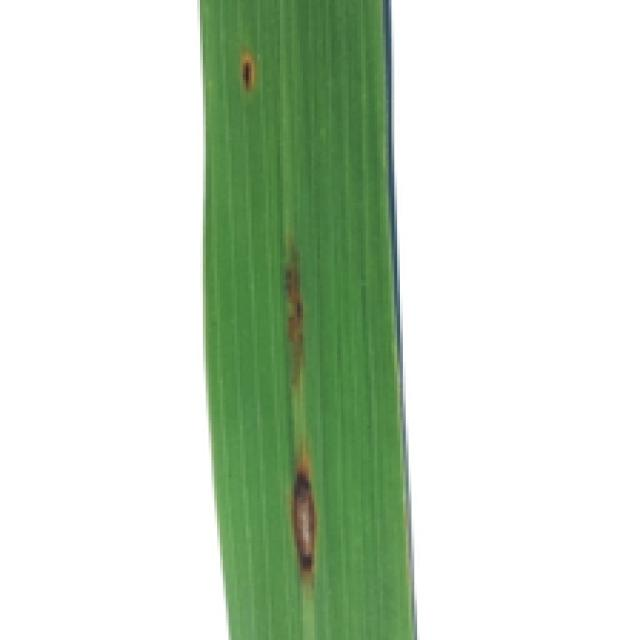Rice___Rice_Blast: (194, 0, 420, 637)
